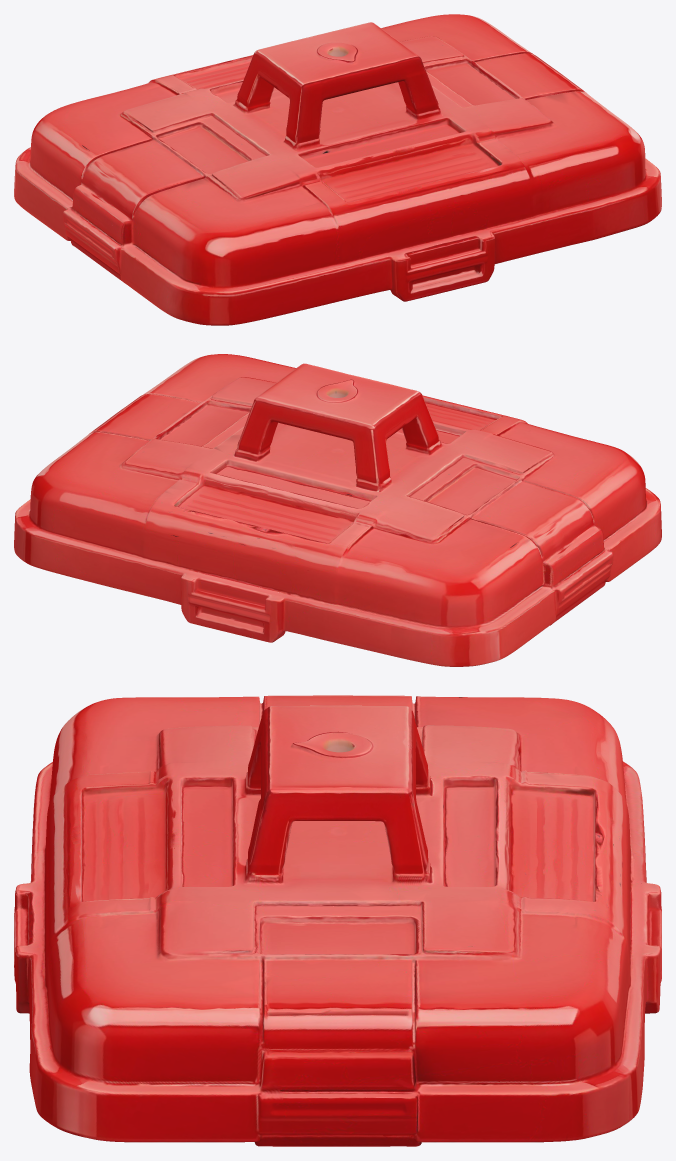
File: box-lid.glb
3 views of the same model, one above another, from view 1: azimuth 30°, elevation 25°; view 2: azimuth 150°, elevation 25°; view 3: azimuth 270°, elevation 25° (orthographic). The views are drawn at different scales.
Parts seen in each view (by area): view 1: box-lid; view 2: box-lid; view 3: box-lid.
Part boxes in pixels (x1,y1,x2,y2): box-lid: (14, 14, 661, 325); box-lid: (14, 354, 661, 666); box-lid: (14, 695, 661, 1146).
Size of the model in its own units: 0.6876 by 0.2152 by 0.5228.
Materials: 6 (6 with a texture image).
